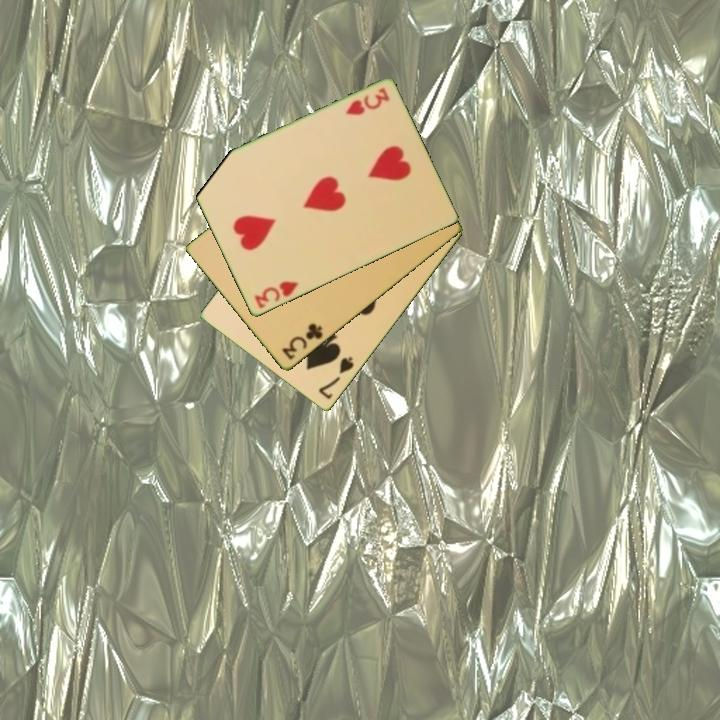3c: (278, 320, 326, 363)
3h: (342, 84, 392, 119), (251, 278, 301, 312)
7s: (315, 353, 357, 403)
